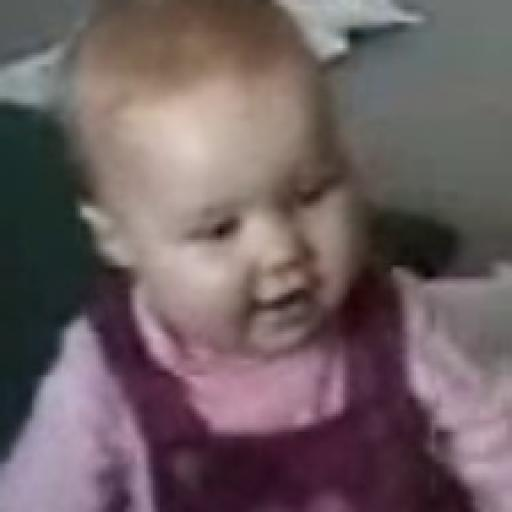Autism: (53, 11, 491, 432)
